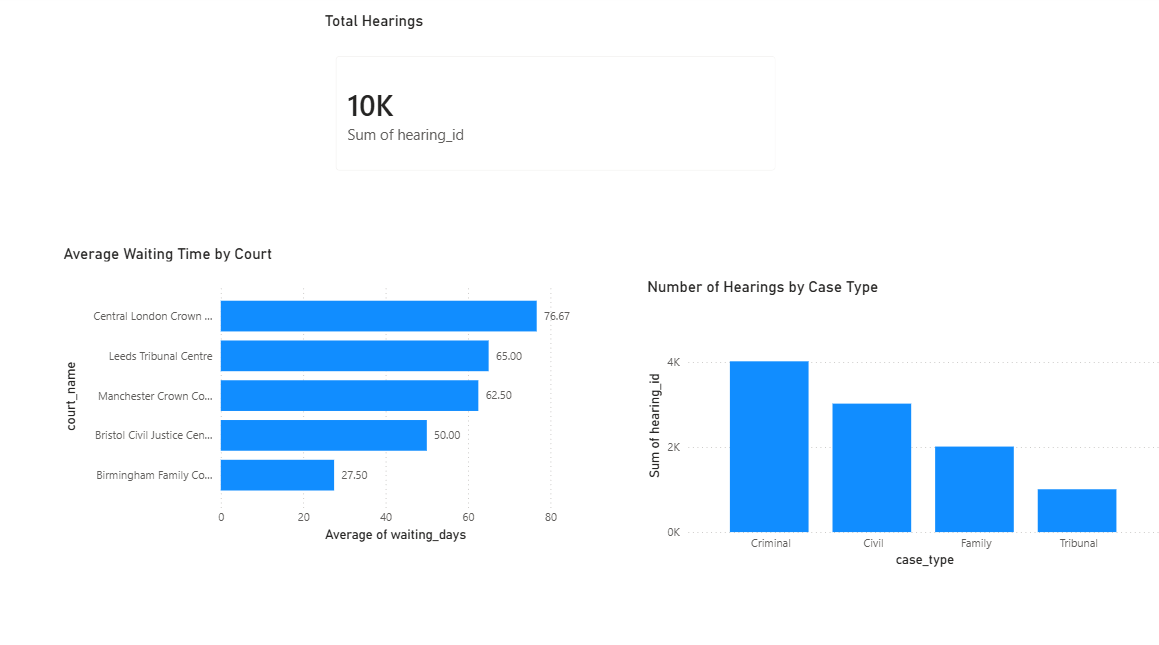

Layout of this report page (visuals, bound fields, positions):
{"tool":"powerbi","page":{"name":"HMCTS Performance Dashboard","canvas":[1280,720],"ordinal":0},"visuals":[{"type":"clusteredBarChart","title":"Average Waiting Time by Court","fields":{"Category":["dim_court.court_name"],"Y":["Avg(fact_hearing.waiting_days)"]},"box":[65.9,274.4,573.6,332.1],"z":0},{"type":"clusteredColumnChart","title":"Number of Hearings by Case Type","fields":{"Category":["dim_case_type.case_type"],"Y":["Sum(fact_hearing.hearing_id)"]},"box":[706.7,311.5,574,323],"z":1000},{"type":"cardVisual","title":"Total Hearings","fields":{"Data":["Sum(fact_hearing.hearing_id)"]},"box":[352.7,19.2,517.3,192.1],"z":2000}]}

Visuals, with their boxes in screenshot pixels (x1, y1, x2, y2), scaled from the page's 1280x720 canvas onto the 1159x645 screenshot:
"Average Waiting Time by Court" clusteredBarChart: bbox=(60, 246, 579, 543)
"Number of Hearings by Case Type" clusteredColumnChart: bbox=(640, 279, 1158, 568)
"Total Hearings" cardVisual: bbox=(319, 17, 788, 189)
